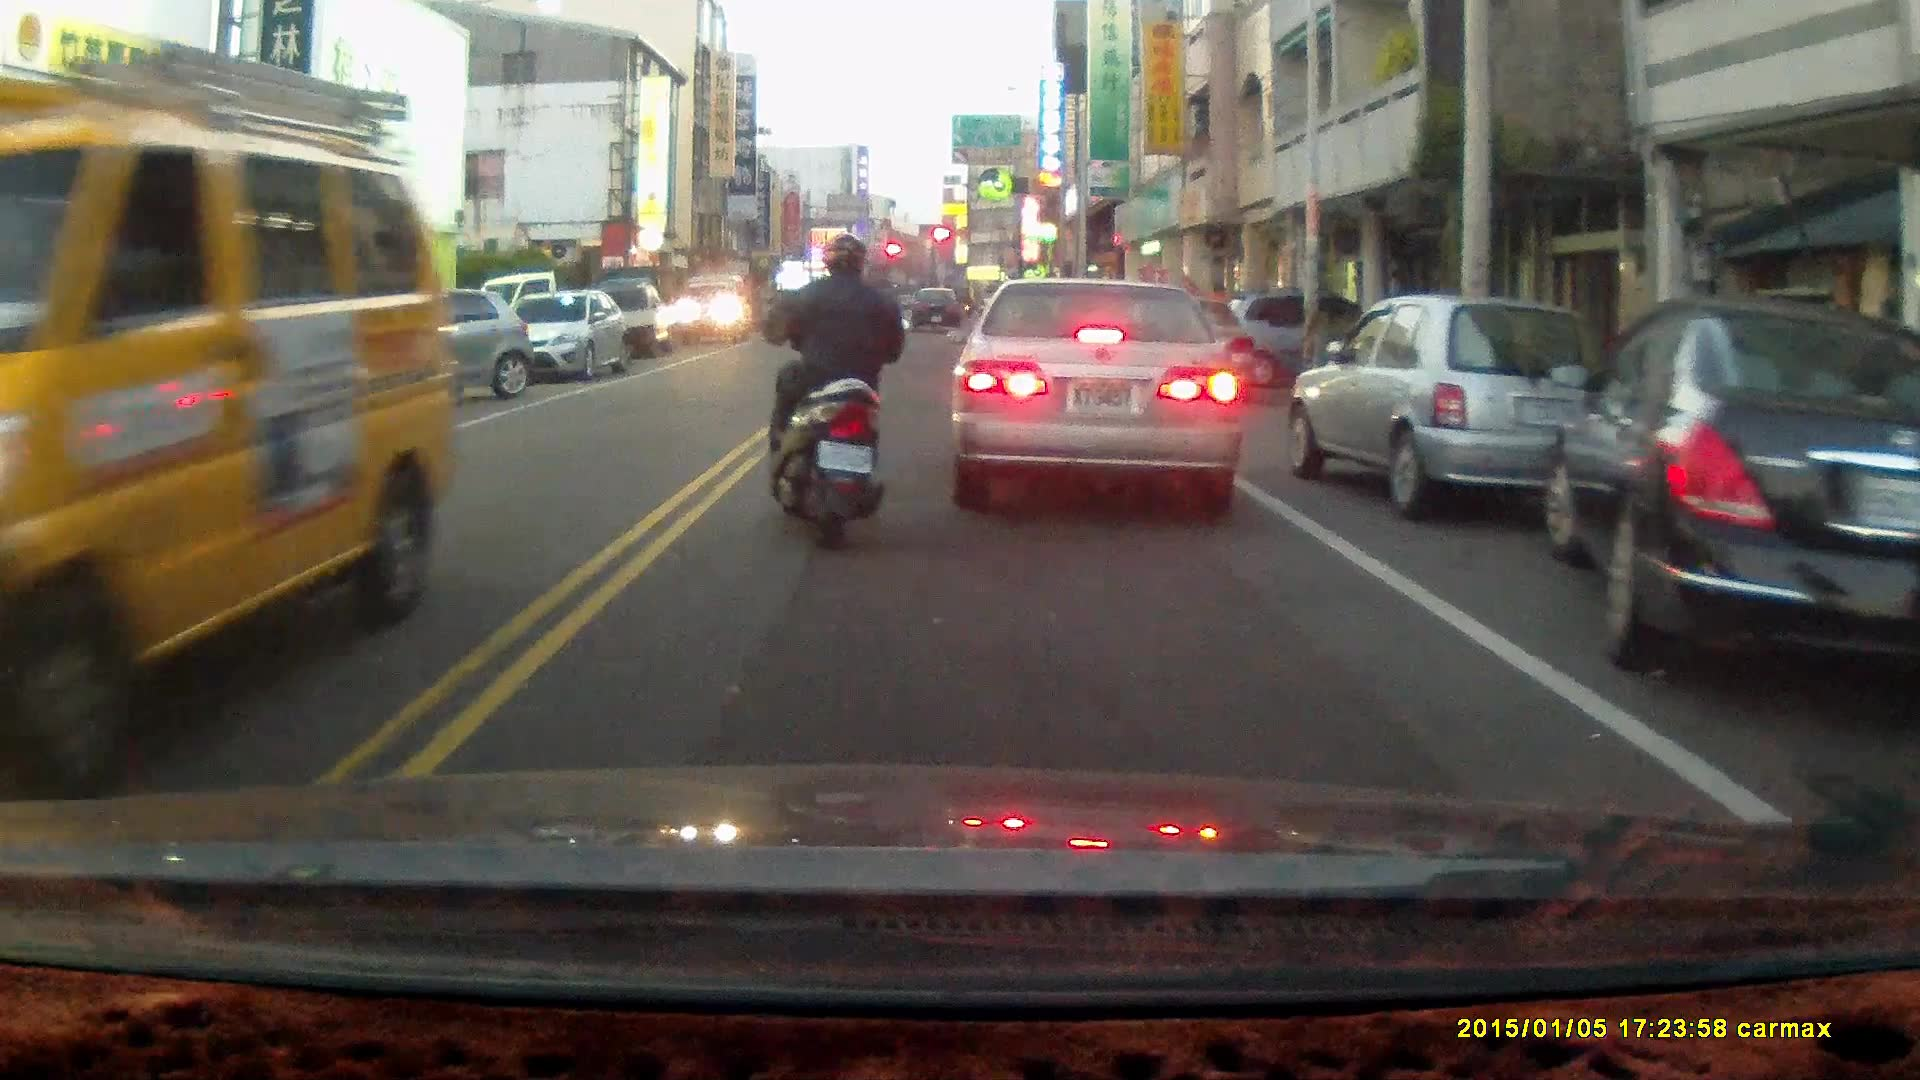rider: (771, 238, 917, 561)
vehicle: (1, 54, 463, 799), (1539, 300, 1920, 715), (1284, 299, 1610, 527), (950, 276, 1248, 513), (312, 281, 530, 408), (512, 288, 636, 385), (676, 273, 761, 343)
